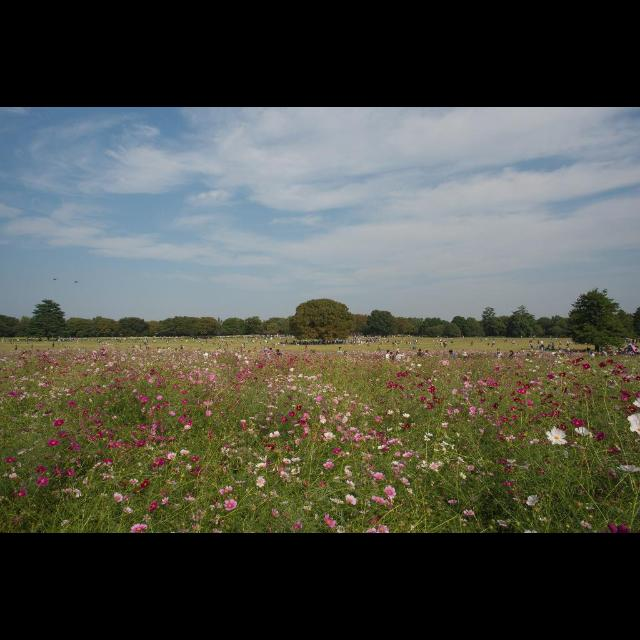Flower: (1, 366, 640, 532), (545, 427, 567, 447), (629, 412, 639, 434), (387, 486, 398, 494), (346, 495, 352, 505)
